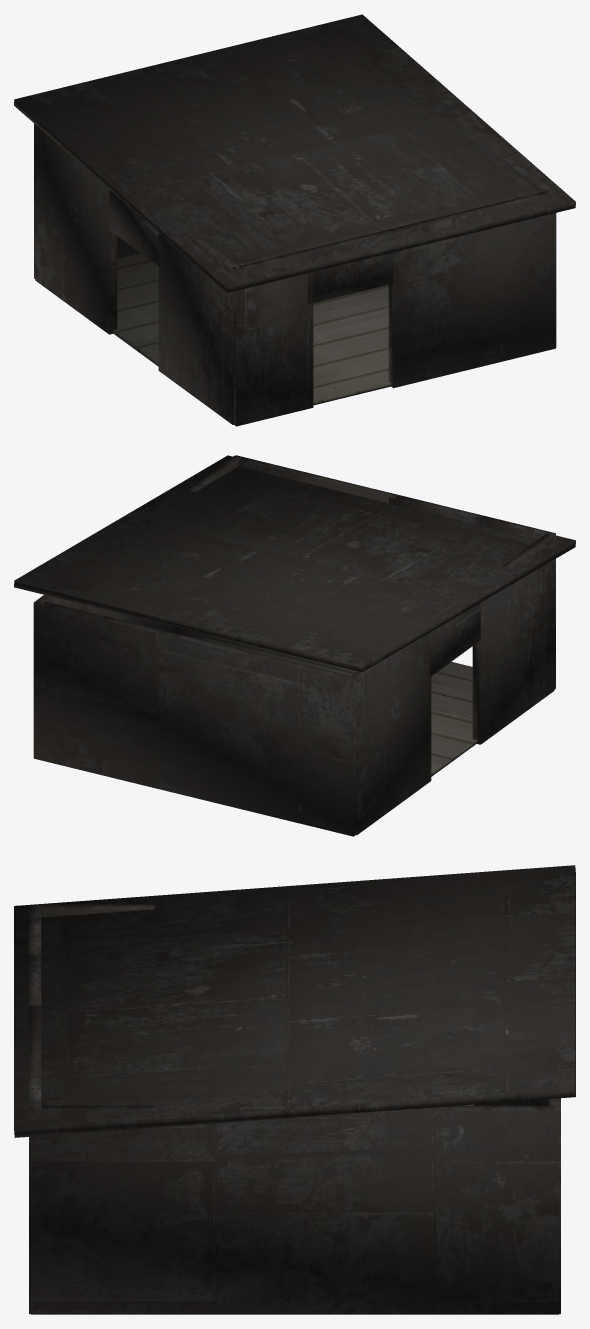
The model's file is sawmill_shed_aaa.glb.
3 renders of one model, top to bottom at view 1: azimuth 30°, elevation 25°; view 2: azimuth 150°, elevation 25°; view 3: azimuth 270°, elevation 25°, orthographic. The views are drawn at different scales.
Parts seen in each view (by area): view 1: SawmillShedWalls, SawmillShedTimber; view 2: SawmillShedWalls, SawmillShedTimber; view 3: SawmillShedWalls.
Part boxes in pixels (x1=…): SawmillShedWalls: x1=14, y1=14, x2=575, y2=426; SawmillShedTimber: x1=113, y1=253, x2=390, y2=405; SawmillShedWalls: x1=14, y1=455, x2=575, y2=836; SawmillShedTimber: x1=201, y1=634, x2=476, y2=776; SawmillShedWalls: x1=14, y1=865, x2=575, y2=1314.
Size of the model in its own units: 12.2 by 5.98 by 12.98.
Materials: 2 (2 with a texture image).
